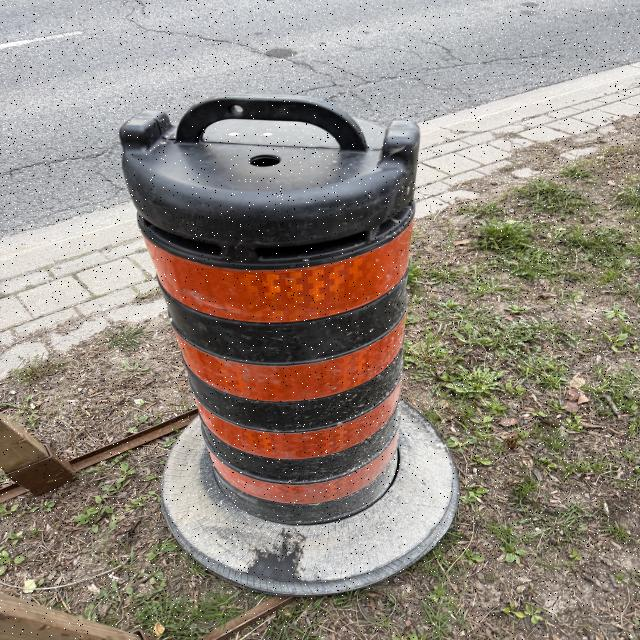Teraffic Barrel: (121, 96, 457, 593)
